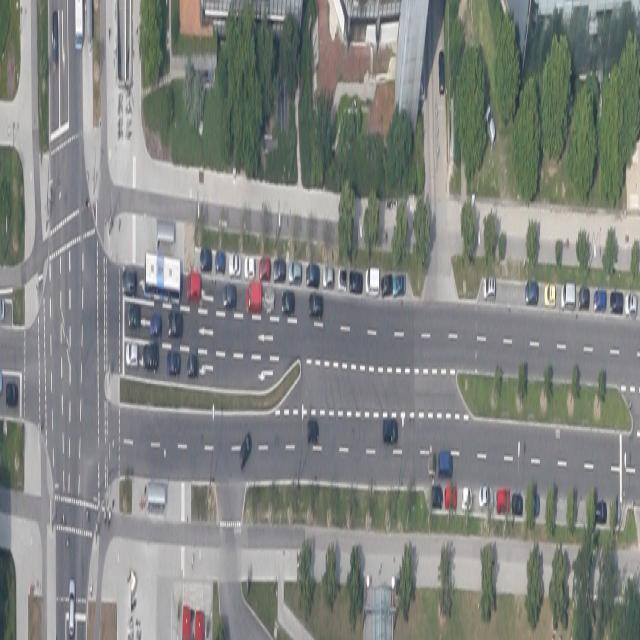UAI: (239, 430, 252, 470), (485, 102, 496, 148), (246, 280, 261, 312), (144, 342, 159, 372), (168, 310, 183, 339), (122, 266, 136, 297), (187, 272, 201, 303), (561, 280, 575, 310), (383, 418, 398, 445), (438, 452, 452, 479), (366, 267, 379, 296), (128, 301, 140, 332), (309, 292, 323, 318), (479, 484, 493, 510), (5, 382, 18, 409), (53, 12, 59, 70), (69, 579, 75, 637), (125, 341, 138, 367), (167, 350, 180, 376), (223, 283, 236, 309), (282, 291, 295, 316), (497, 488, 510, 512), (593, 289, 606, 313), (525, 280, 538, 304), (349, 270, 362, 294), (306, 263, 319, 287), (229, 251, 241, 276), (610, 290, 623, 313), (461, 484, 472, 511), (445, 485, 457, 509), (483, 276, 495, 300), (393, 273, 405, 297), (289, 261, 301, 285), (150, 313, 161, 339), (187, 353, 198, 379), (273, 260, 286, 282), (259, 255, 270, 281), (307, 418, 318, 444), (439, 50, 445, 96), (596, 499, 607, 524), (200, 247, 211, 272), (432, 484, 443, 508), (512, 491, 523, 515), (625, 292, 636, 316), (578, 286, 589, 310), (544, 282, 555, 306), (381, 273, 392, 297), (245, 254, 255, 279), (323, 265, 334, 287), (264, 290, 274, 314), (215, 250, 225, 274), (338, 267, 346, 291), (428, 455, 436, 476)
car: (145, 250, 181, 304)
